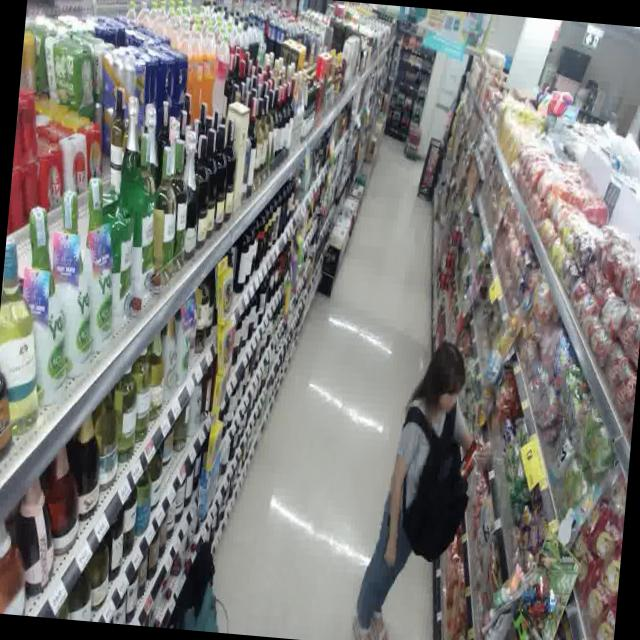pickup: (337, 304, 509, 640)
